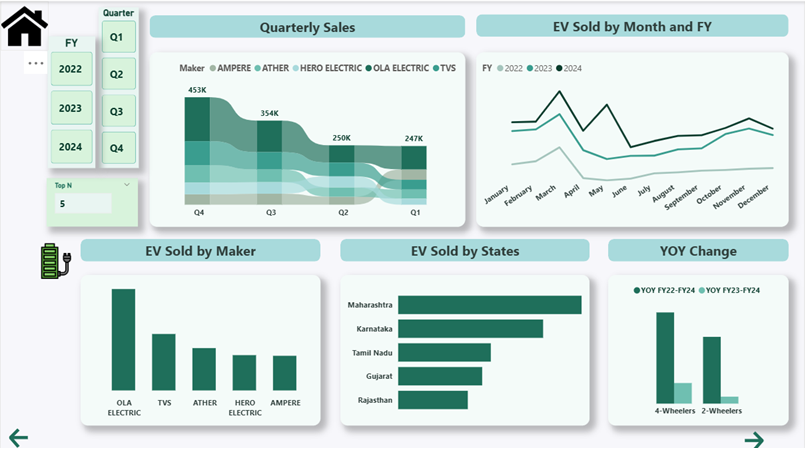

The page's visual inventory and layout, read from the dashboard file:
{"tool":"powerbi","page":{"name":"Market & Competition Analysis","canvas":[1280,720],"ordinal":2},"visuals":[{"type":"ribbonChart","title":"Quarterly Sales","fields":{"Category":["dim_date.quarter"],"Y":["electric_vehicle_sales_by_makers.Quarterly Sales"],"Series":["electric_vehicle_sales_by_makers.maker"]},"box":[236.2,81.3,502.7,277.8],"z":0},{"type":"slicer","fields":{"Values":["Top N .Top N "]},"box":[73.7,281.6,145.5,77.5],"z":1000},{"type":"columnChart","title":"Total EV Sold by Maker","fields":{"Category":["electric_vehicle_sales_by_makers.maker"],"Y":["electric_vehicle_sales_by_makers.Total EV Sold"]},"box":[126.6,436.5,381.7,240],"z":2000},{"type":"advancedSlicerVisual","title":"Quarter","fields":{"Values":["dim_date.quarter"]},"box":[156,10,64,256],"z":3000},{"type":"lineChart","fields":{"Y":["electric_vehicle_sales_by_makers.Total EV Sold"],"Category":["dim_date.date.Variation.Date Hierarchy.Month"],"Series":["dim_date.fiscal_year"]},"box":[757.8,81.3,497,277.8],"z":4000},{"type":"barChart","title":"EV Sold by States ","fields":{"Category":["electric_vehicle_sales_by_state.state"],"Y":["electric_vehicle_sales_by_state.total EV sold_states"]},"box":[540.5,436.5,396.9,240],"z":5000},{"type":"clusteredColumnChart","fields":{"Category":["dim_vehicle_category.vehicle category"],"Y":["electric_vehicle_sales_by_state.YOY FY22-FY24","electric_vehicle_sales_by_state.YOY FY23-FY24"]},"box":[967.6,436.5,287.2,240],"z":6000},{"type":"shape","box":[540.5,378,396.9,35.9],"z":7000},{"type":"shape","box":[126.6,378,381.7,35.9],"z":8000},{"type":"shape","box":[967.6,378,287.2,35.9],"z":9000},{"type":"shape","box":[757.8,20.8,497,35.9],"z":10000},{"type":"shape","box":[236.2,22.7,502.7,35.9],"z":11000},{"type":"advancedSlicerVisual","title":"FY","fields":{"Values":["dim_date.fiscal_year"]},"box":[74,56,76,210],"z":12000},{"type":"actionButton","box":[1179.2,680.3,100.2,39.7],"z":13000},{"type":"actionButton","box":[9.4,676.5,100.2,39.7],"z":14000},{"type":"image","box":[58.8,352.9,58.8,121.6],"z":15000},{"type":"image","box":[0,0,76,78],"z":16000}]}

Visuals, with their boxes in screenshot pixels (x1, y1, x2, y2), scaled from the page's 1280x720 canvas onto the 808x452 screenshot:
"Quarterly Sales" ribbonChart: x1=149 y1=51 x2=466 y2=225
slicer - Top N .Top N : x1=47 y1=177 x2=138 y2=225
"Total EV Sold by Maker" columnChart: x1=80 y1=274 x2=321 y2=425
"Quarter" advancedSlicerVisual: x1=98 y1=6 x2=139 y2=167
lineChart - electric_vehicle_sales_by_makers.Total EV Sold x dim_date.date.Variation.Date Hierarchy.Month: x1=478 y1=51 x2=792 y2=225
"EV Sold by States " barChart: x1=341 y1=274 x2=592 y2=425
clusteredColumnChart - dim_vehicle_category.vehicle category x electric_vehicle_sales_by_state.YOY FY22-FY24: x1=611 y1=274 x2=792 y2=425
shape: x1=341 y1=237 x2=592 y2=260
shape: x1=80 y1=237 x2=321 y2=260
shape: x1=611 y1=237 x2=792 y2=260
shape: x1=478 y1=13 x2=792 y2=36
shape: x1=149 y1=14 x2=466 y2=37
"FY" advancedSlicerVisual: x1=47 y1=35 x2=95 y2=167
actionButton: x1=744 y1=427 x2=807 y2=451
actionButton: x1=6 y1=425 x2=69 y2=450
image: x1=37 y1=222 x2=74 y2=298
image: x1=0 y1=0 x2=48 y2=49
